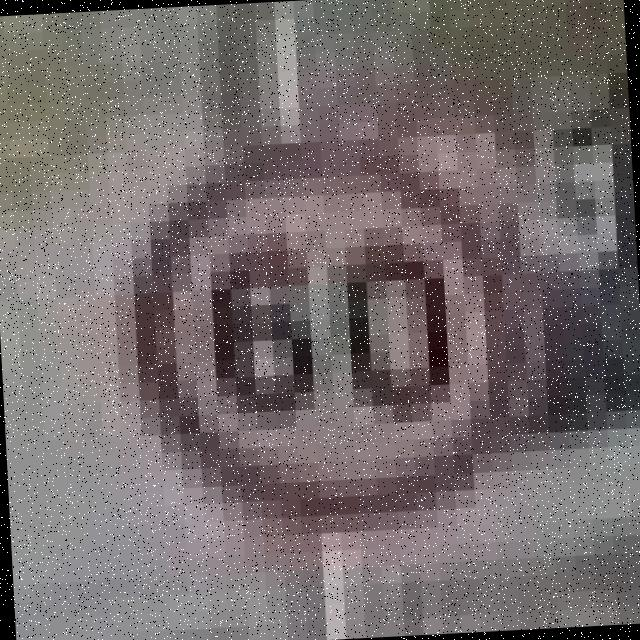Ograniczenie predkosci do 60: (87, 115, 514, 527)
